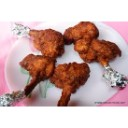chicken_lollipop: (3, 55, 54, 106), (81, 39, 128, 88), (9, 21, 65, 57), (53, 62, 92, 110), (65, 21, 105, 52)
